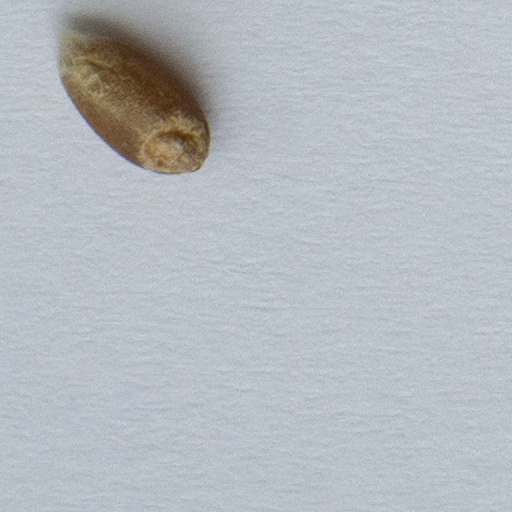Wheat-grain-poly: (62, 37, 208, 171)
